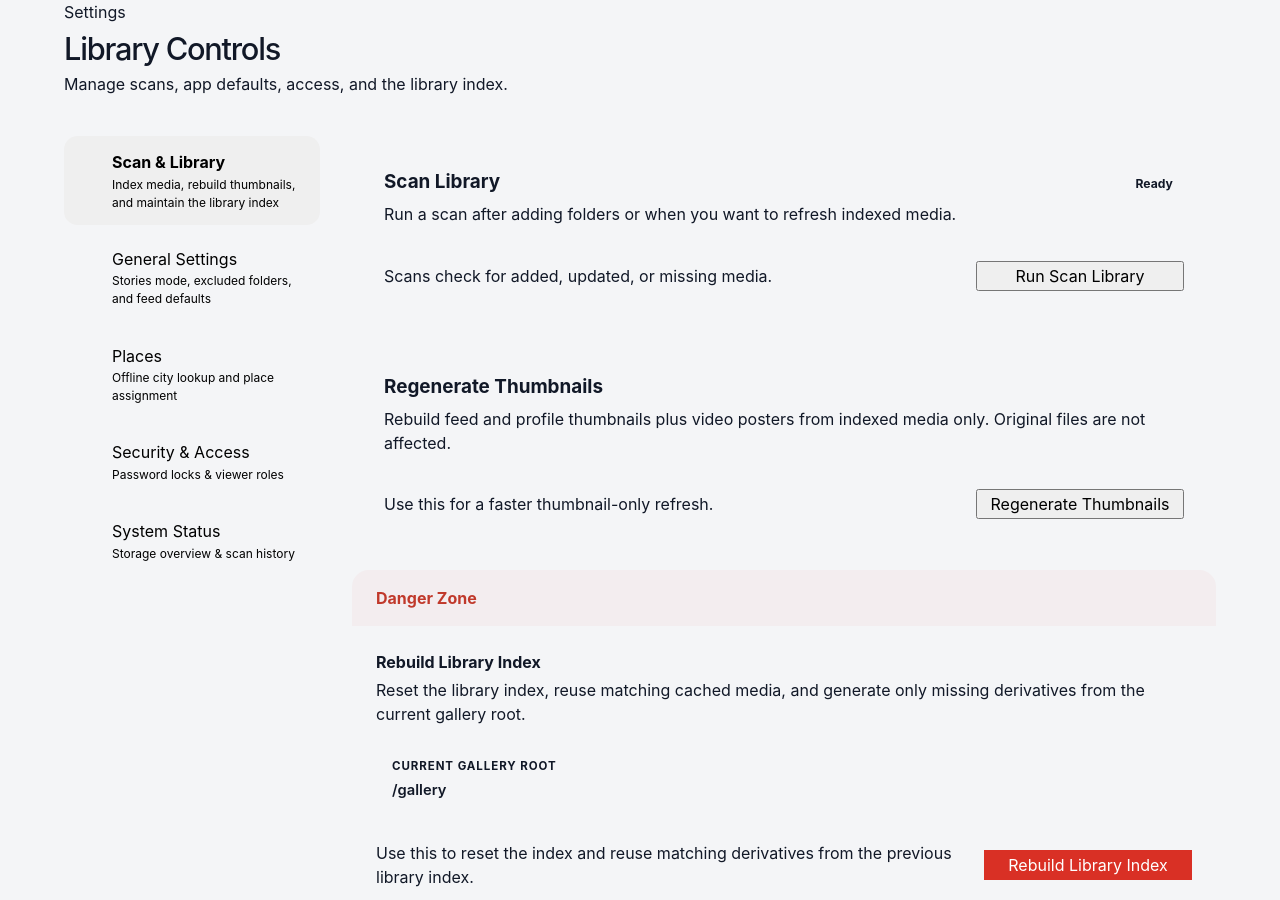
Scenario: SettingsView › renders the combined feed defaults card with separate home and reels groups
Click the button that starts with "General Settings".
click(192, 278)  # box [64,233,320,322]
(page scrolled)
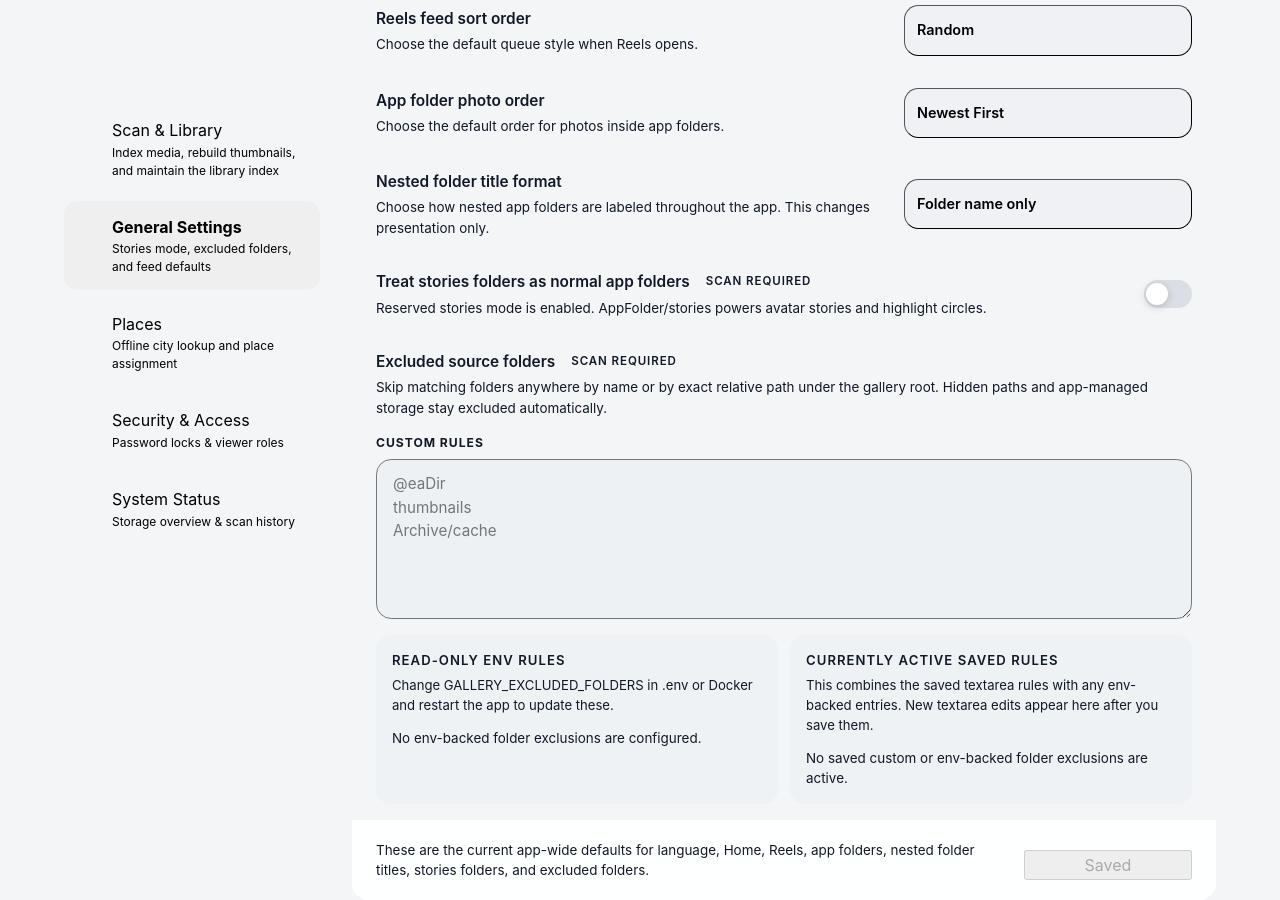
Expected: the text "Reels feed sort order" is shown, [376,8,531,28]
Expected: the text "App folder photo order" is shown, [376,91,544,110]
Expected: the text "Excluded source folders" is shown, [376,350,555,373]
